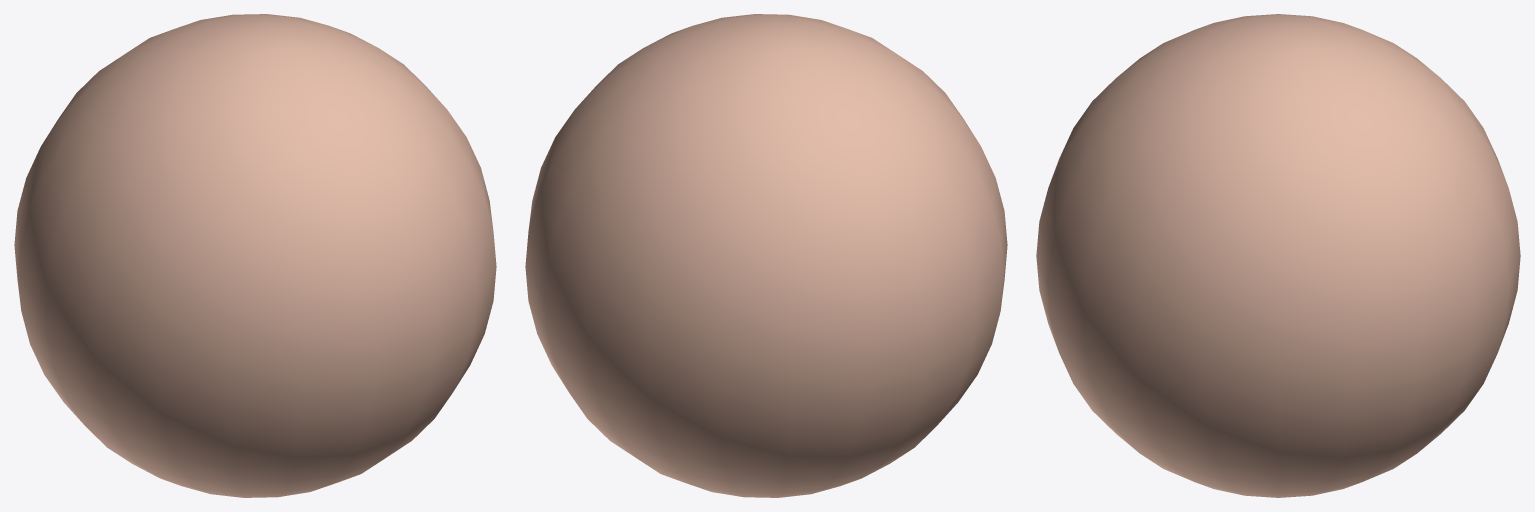
The model's file is TORTILLA.fbx.
The picture shows the model from 3 angles, left to right: view 1: azimuth 30°, elevation 25°; view 2: azimuth 150°, elevation 25°; view 3: azimuth 270°, elevation 25°; orthographic projection.
Visible parts, largest first — view 1: pSphere1; view 2: pSphere1; view 3: pSphere1.
Boxes of the visible parts, x1=… form: pSphere1: x1=14, y1=14, x2=496, y2=497; pSphere1: x1=525, y1=14, x2=1007, y2=497; pSphere1: x1=1036, y1=14, x2=1520, y2=497.
Size of the model in its own units: 7113 by 7113 by 7113.
